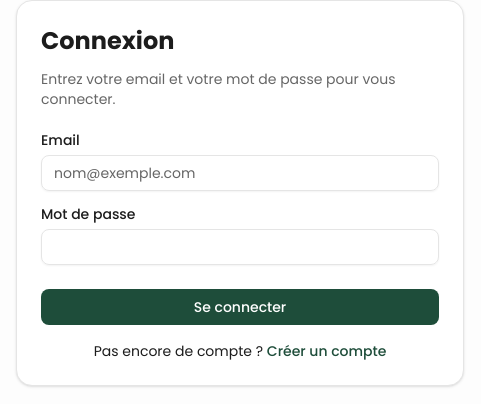
Test: LoginForm › should disable button while loading
Type "test@example.com" into the field labelled "Email" at [240, 173], box [41, 155, 439, 191]
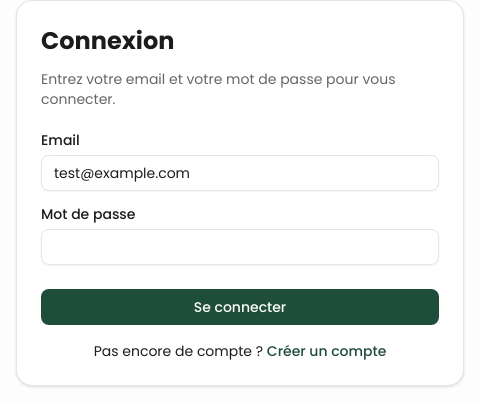
Type "password123" into the password field labelled "Mot de passe" at [240, 247], box [41, 229, 439, 265]
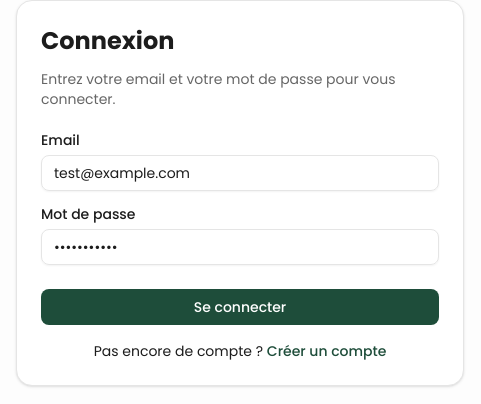
Click the button "Se connecter" at [240, 307], box [41, 289, 439, 325]
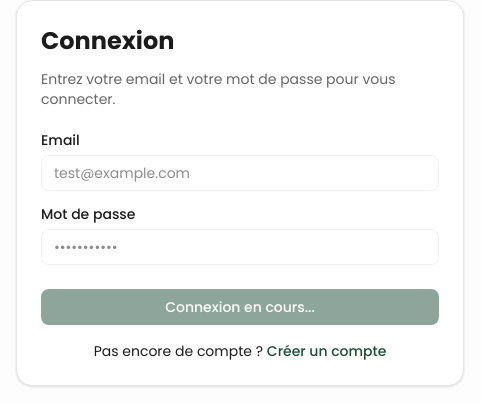
Now the button "Connexion en cours..." is disabled, box [41, 289, 439, 325]
